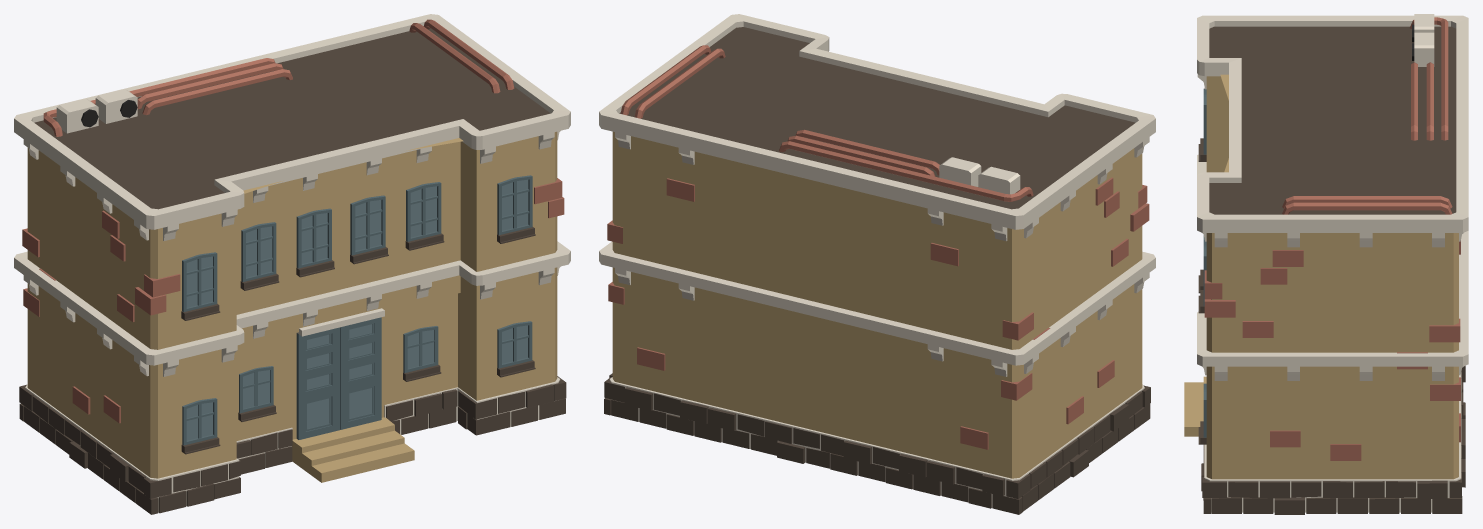
The model's file is cairo-block-terrace.glb.
3 renders of one model, left to right at view 1: azimuth 30°, elevation 25°; view 2: azimuth 150°, elevation 25°; view 3: azimuth 270°, elevation 25°, orthographic.
Bounding box in the file's own units: 3.83 × 2.75 × 2.26.
